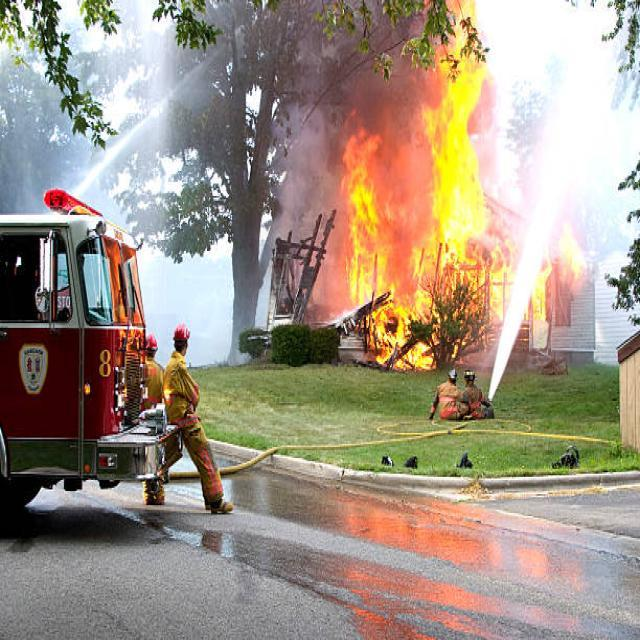Fire: (347, 0, 547, 377)
Smoke: (328, 0, 437, 275)
